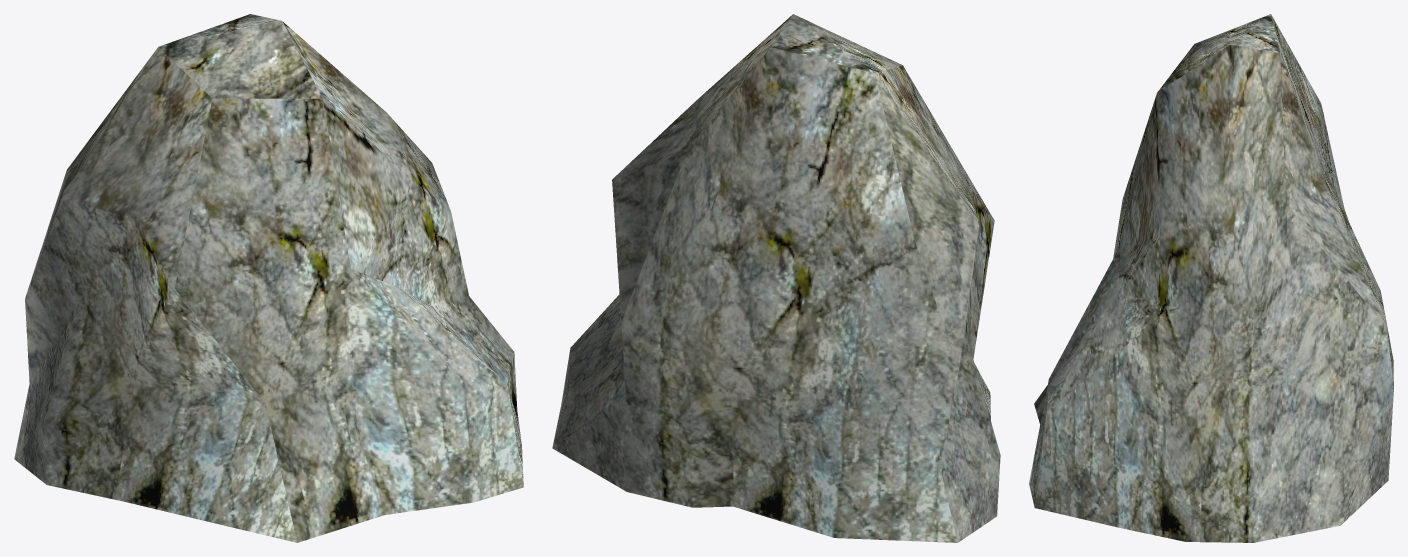
The model's file is general_obj_bigstone07.fbx.
3 renders of one model, left to right at view 1: azimuth 30°, elevation 25°; view 2: azimuth 150°, elevation 25°; view 3: azimuth 270°, elevation 25°, orthographic. The views are drawn at different scales.
Parts seen in each view (by area): view 1: Sphere01fs; view 2: Sphere01fs; view 3: Sphere01fs.
Boxes of the visible parts, box(x1,y1,x2,y2) form: Sphere01fs: box(14, 14, 523, 542); Sphere01fs: box(552, 14, 1000, 542); Sphere01fs: box(1029, 14, 1393, 542).
Bounding box in the file's own units: 12.78 × 11.95 × 9.86.
